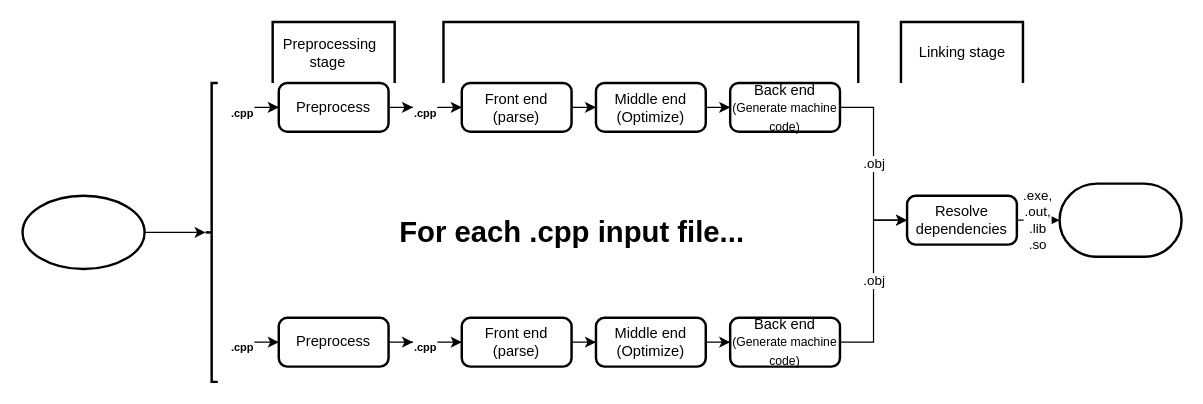
Image size: 1203x404. Some labels were removed from this diagram. The shapes that lost their labels are listed below. From the top down, each one's centre as x and y in pixels, then its label:
At (x=650, y=52): "Compilation stage".
At (x=83, y=232): "Start of build process".
At (x=1120, y=219): "End of build process".
